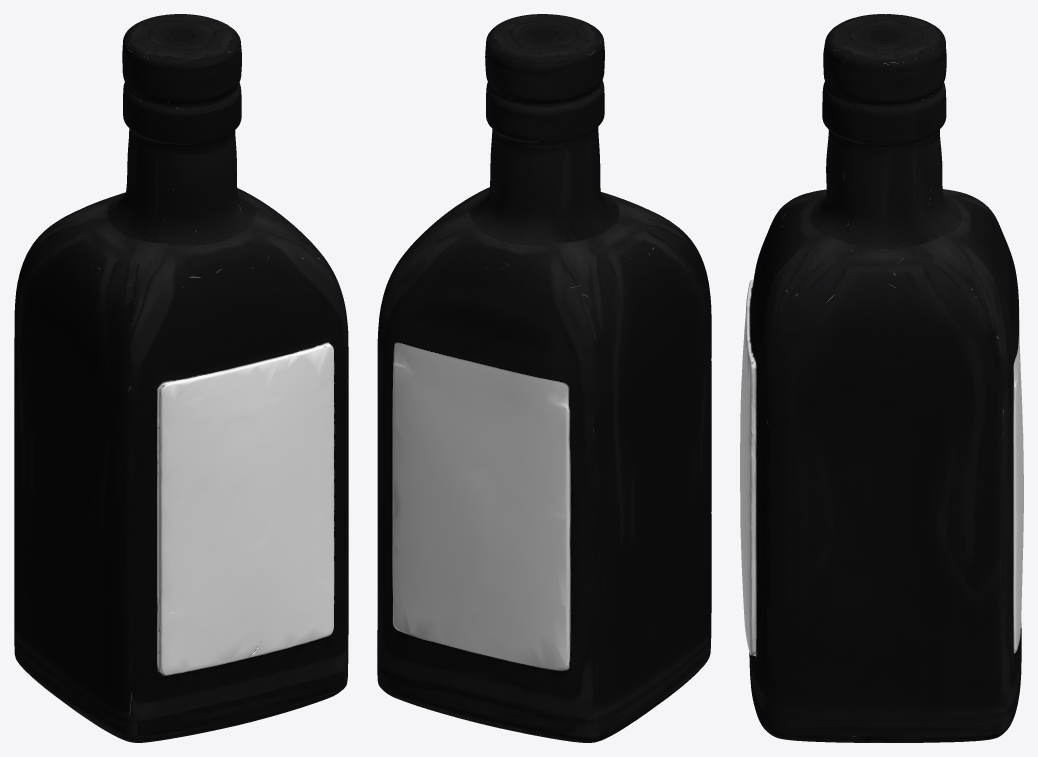
The picture shows the model from 3 angles, left to right: view 1: azimuth 30°, elevation 25°; view 2: azimuth 150°, elevation 25°; view 3: azimuth 270°, elevation 25°; orthographic projection.
Visible parts, largest first — view 1: Mesh_0; view 2: Mesh_0; view 3: Mesh_0.
Part boxes in pixels (x1=…): Mesh_0: x1=14, y1=14, x2=348, y2=742; Mesh_0: x1=377, y1=14, x2=711, y2=742; Mesh_0: x1=740, y1=14, x2=1023, y2=742.
Size of the model in its own units: 0.743 by 1.91 by 0.7512.
Materials: 1 (1 with a texture image).
